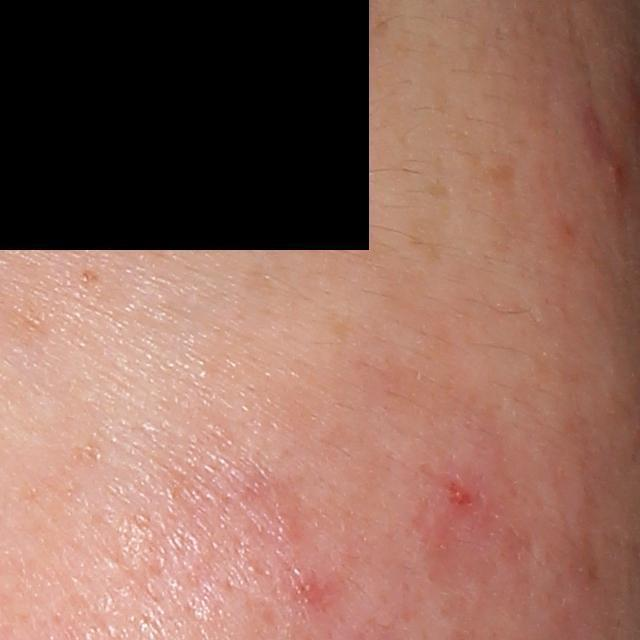melasma: (449, 128, 518, 220), (424, 178, 461, 207), (76, 267, 99, 284)
papule: (429, 473, 483, 524), (281, 569, 324, 606), (604, 158, 628, 191)
